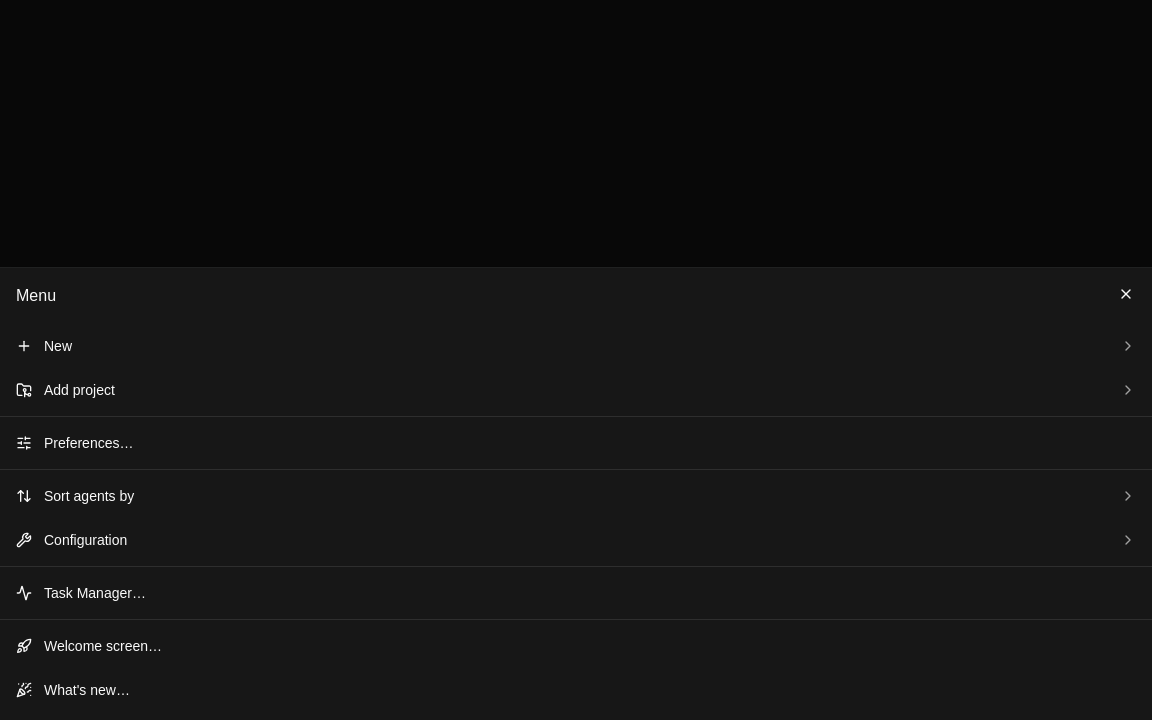
Test: AppMenuSheet › returns to the root list from the back arrow
Click the menu item "Configuration": [86, 540] box top-left (0, 518), bottom-right (1151, 562)
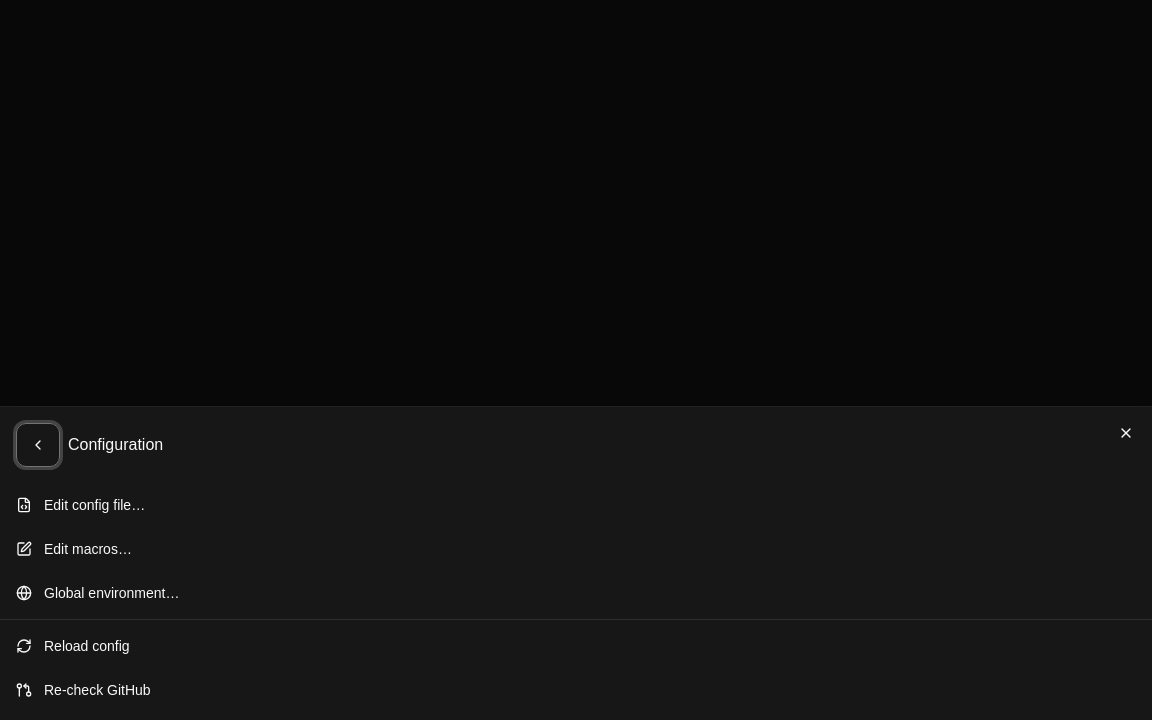
Click the button named "Back": [38, 445] box top-left (16, 423), bottom-right (60, 467)
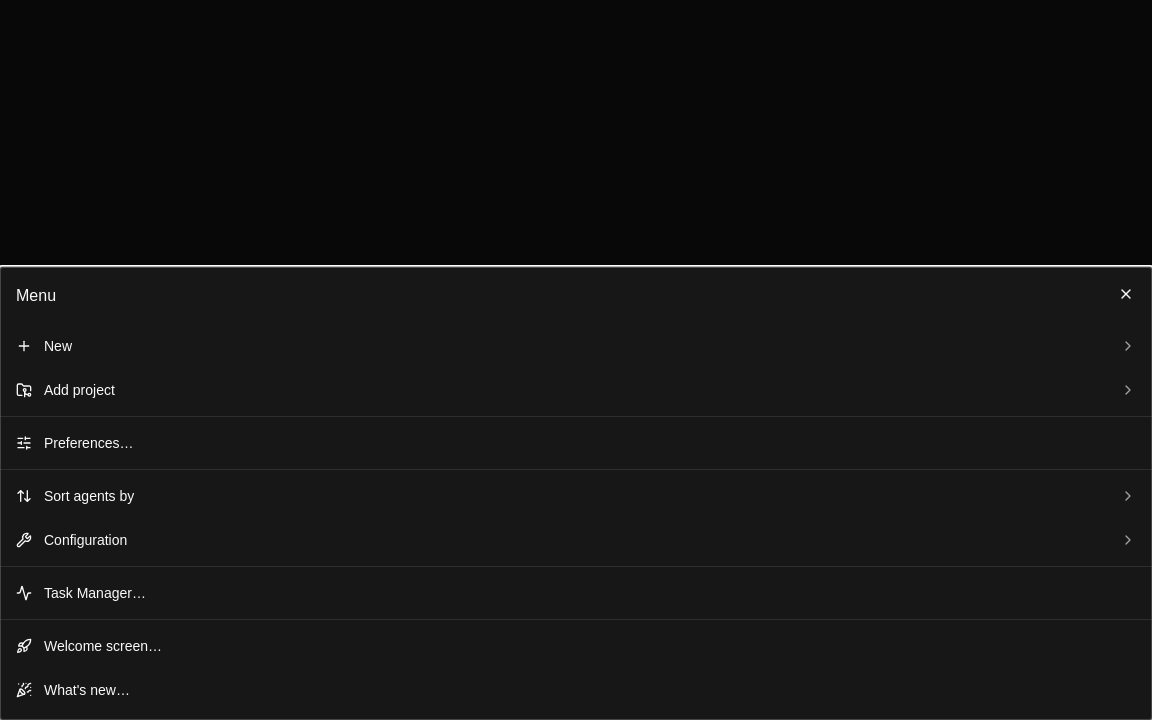
Now the text "Preferences…" is shown, box top-left (44, 435), bottom-right (134, 451)
Now the button labelled "Back" is gone
